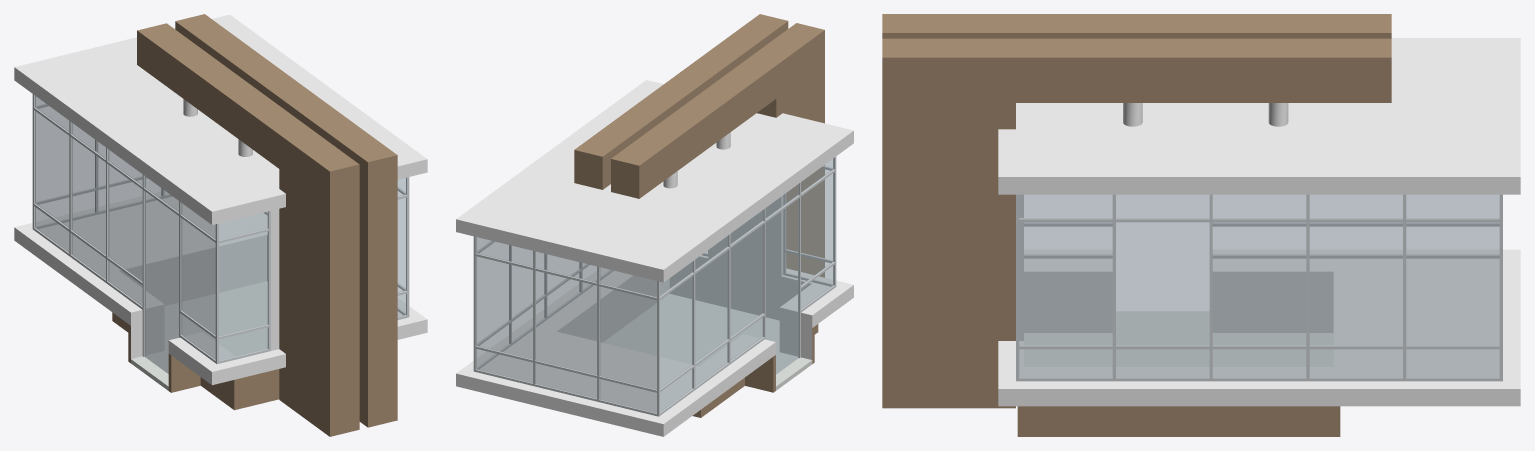
The model's file is gate.glb.
3 views of the same model, side by side, from view 1: azimuth 30°, elevation 25°; view 2: azimuth 150°, elevation 25°; view 3: azimuth 270°, elevation 25° (orthographic). The views are drawn at different scales.
Parts seen in each view (by area): view 1: 3DXY_geometry_112, 3DXY_geometry_109, 3DXY_geometry_110, 3DXY_geometry_111, 3DXY_geometry_113; view 2: 3DXY_geometry_109, 3DXY_geometry_110, 3DXY_geometry_112, 3DXY_geometry_111, 3DXY_geometry_113; view 3: 3DXY_geometry_109, 3DXY_geometry_112, 3DXY_geometry_110, 3DXY_geometry_111, 3DXY_geometry_113.
Part boxes in pixels (left/top/right/bottom): 3DXY_geometry_112: left=112, top=14, right=397, bottom=436; 3DXY_geometry_109: left=14, top=14, right=427, bottom=385; 3DXY_geometry_110: left=35, top=96, right=406, bottom=373; 3DXY_geometry_111: left=32, top=94, right=409, bottom=363; 3DXY_geometry_113: left=131, top=281, right=267, bottom=390; 3DXY_geometry_109: left=456, top=80, right=853, bottom=436; 3DXY_geometry_110: left=476, top=158, right=833, bottom=413; 3DXY_geometry_112: left=574, top=14, right=824, bottom=417; 3DXY_geometry_111: left=473, top=156, right=836, bottom=416; 3DXY_geometry_113: left=603, top=294, right=812, bottom=390; 3DXY_geometry_109: left=998, top=38, right=1520, bottom=406; 3DXY_geometry_112: left=882, top=14, right=1391, bottom=436; 3DXY_geometry_110: left=1019, top=194, right=1499, bottom=377; 3DXY_geometry_111: left=1016, top=194, right=1502, bottom=381; 3DXY_geometry_113: left=1024, top=311, right=1333, bottom=366.
Bounding box in the file's own units: 102 × 120 × 198.
